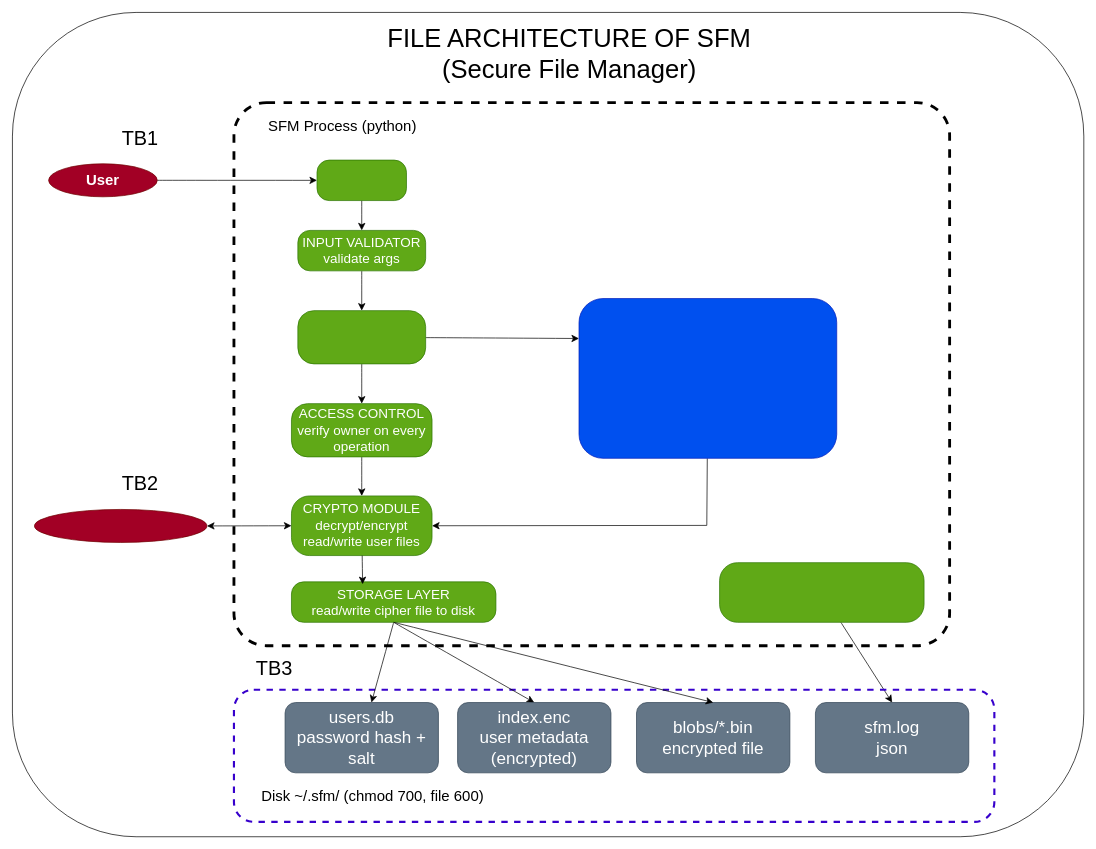
This 1096x849 diagram has some shape labels left out. Here are the shapes that lost their labels. From the top down, the centre of each, then its label:
At point (361, 180): "CLI".
At point (361, 337): "AUTH MODULE validate password (Argon2id)".
At point (707, 378): "LOADED KEYS (RAM ONLY) ZEROED AFTER USE".
At point (120, 525): "File input/output".
At point (821, 592): "LOGGER receive non-secret data from all modules".
